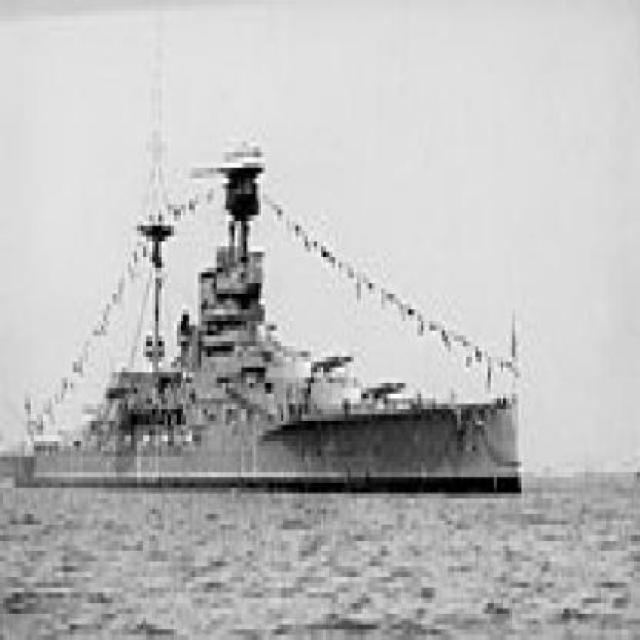warship2: (13, 127, 556, 520)
